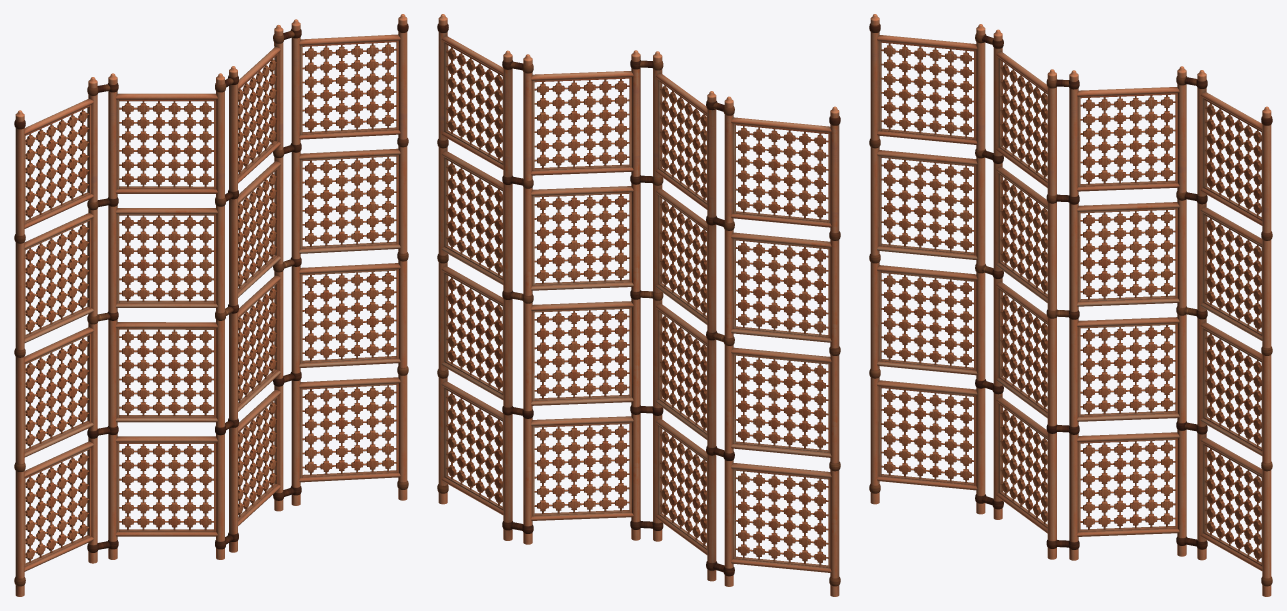
The model's file is wooden_partition_wall.glb.
3 renders of one model, left to right at view 1: azimuth 30°, elevation 25°; view 2: azimuth 150°, elevation 25°; view 3: azimuth 330°, elevation 25°, orthographic.
Visible parts, largest first — view 1: leg_02_low (×4), window_03_detail_low (×4), window_04_detail_low (×4), window_02_detail_low (×4), window_01_detail_low (×4), leg_01_low (×4), window_03_rim_top_low (×3), window_04_rim_top_low (×3), window_01_rim_top_low (×3), window_02_rim_top_low (×3), window_03_rim_bottom_low (×2), window_02_rim_bottom_low (+2 smaller); view 2: leg_02_low (×4), window_04_detail_low (×4), window_03_detail_low (×4), window_01_detail_low (×4), window_02_detail_low (×4), leg_01_low (×4), window_03_rim_top_low (×2), window_02_rim_top_low (×2), window_01_rim_top_low (×2), window_04_rim_top_low (×2), window_03_rim_bottom_low (×2), window_04_rim_bottom_low (×2) (+2 smaller); view 3: leg_01_low (×4), window_01_detail_low (×4), window_04_detail_low (×4), window_03_detail_low (×4), window_02_detail_low (×4), leg_02_low (×4), window_03_rim_top_low (×2), window_02_rim_top_low (×2), window_04_rim_top_low (×2), window_01_rim_top_low (×2), window_04_rim_bottom_low (×2), window_03_rim_bottom_low (×2) (+2 smaller).
Boxes of the visible parts, x1,y1,x2,y2 form: leg_02_low (×4): (15,19,300,596); window_03_detail_low (×4): (25,271,396,448); window_04_detail_low (×4): (25,385,396,562); window_02_detail_low (×4): (25,157,396,333); window_01_detail_low (×4): (25,42,396,219); leg_01_low (×4): (88,14,407,563); window_03_rim_top_low (×3): (24,263,400,363); window_04_rim_top_low (×3): (24,377,400,477); window_01_rim_top_low (×3): (24,34,400,134); window_02_rim_top_low (×3): (24,148,400,248); window_03_rim_bottom_low (×2): (115,358,400,422); window_02_rim_bottom_low: (299,244,400,253); leg_02_low (×4): (503,50,839,596); window_04_detail_low (×4): (446,392,828,565); window_03_detail_low (×4): (446,277,828,450); window_01_detail_low (×4): (446,47,828,220); window_02_detail_low (×4): (446,162,828,335); leg_01_low (×4): (438,14,733,586); window_03_rim_top_low (×2): (531,301,831,362); window_02_rim_top_low (×2): (531,186,831,247); window_01_rim_top_low (×2): (531,71,831,132); window_04_rim_top_low (×2): (531,416,831,478); window_03_rim_bottom_low (×2): (531,397,831,457); window_04_rim_bottom_low (×2): (531,512,831,572); leg_01_low (×4): (976,24,1271,596); window_01_detail_low (×4): (881,43,1261,216); window_04_detail_low (×4): (881,389,1261,561); window_03_detail_low (×4): (881,273,1261,446); window_02_detail_low (×4): (881,158,1261,331); leg_02_low (×4): (870,14,1206,560); window_03_rim_top_low (×2): (877,265,1179,326); window_02_rim_top_low (×2): (877,150,1179,211); window_04_rim_top_low (×2): (877,380,1179,441); window_01_rim_top_low (×2): (877,35,1179,96); window_04_rim_bottom_low (×2): (877,476,1179,536); window_03_rim_bottom_low (×2): (877,361,1179,421).
Size of the model in its own units: 1.47 by 1.72 by 0.2719.
1 material, 1 textured.
